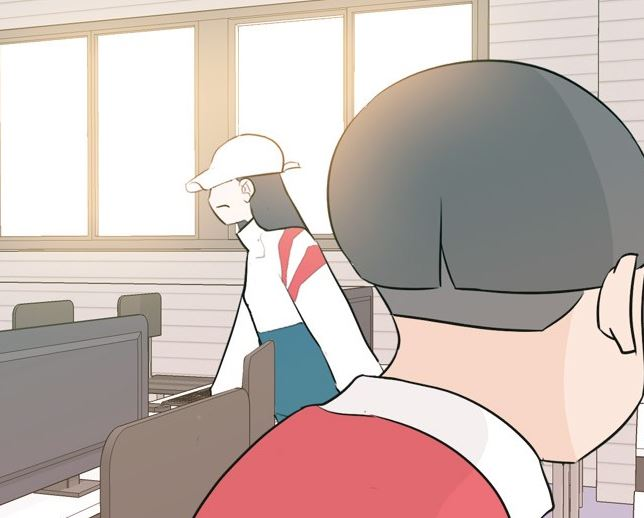hat: (187, 134, 301, 190)
